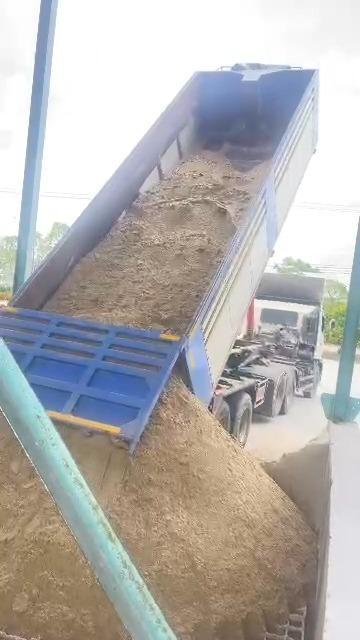sand: (63, 365, 314, 639), (45, 151, 266, 332), (0, 417, 120, 639), (265, 430, 329, 530)
